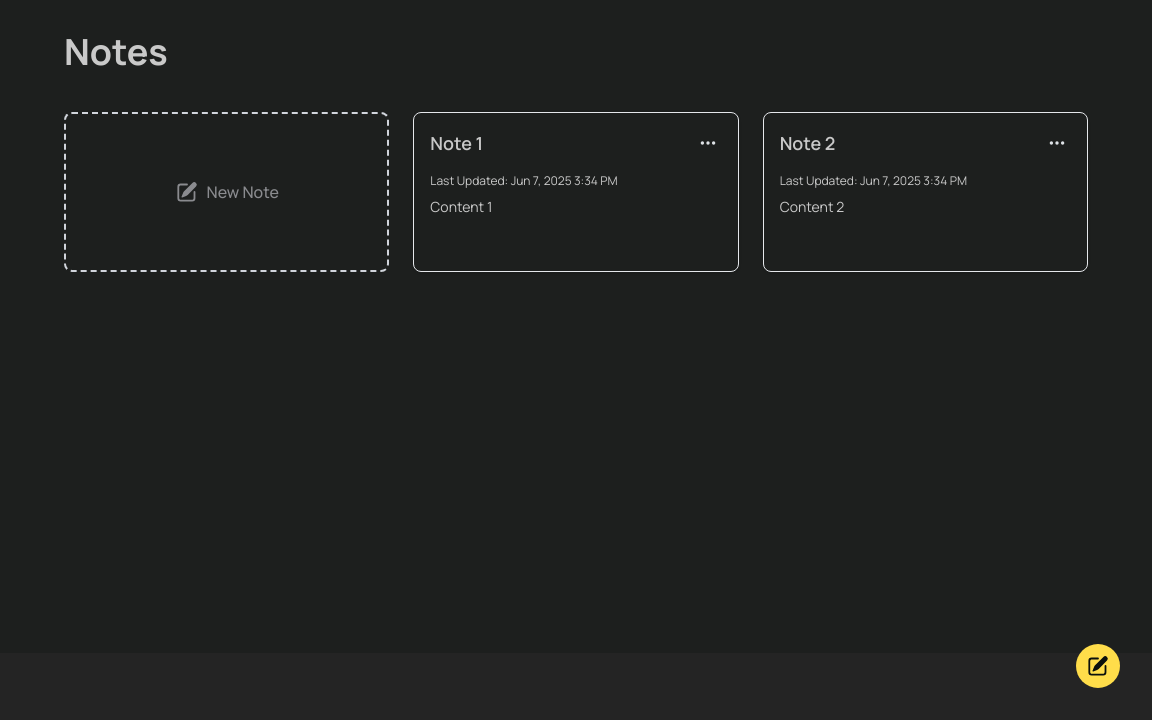
Scenario: Notes page with note › opens the menu on click and show all menu items
Click the button named "Options for note titled Note 1" at (708, 143), box [694,129,722,157]
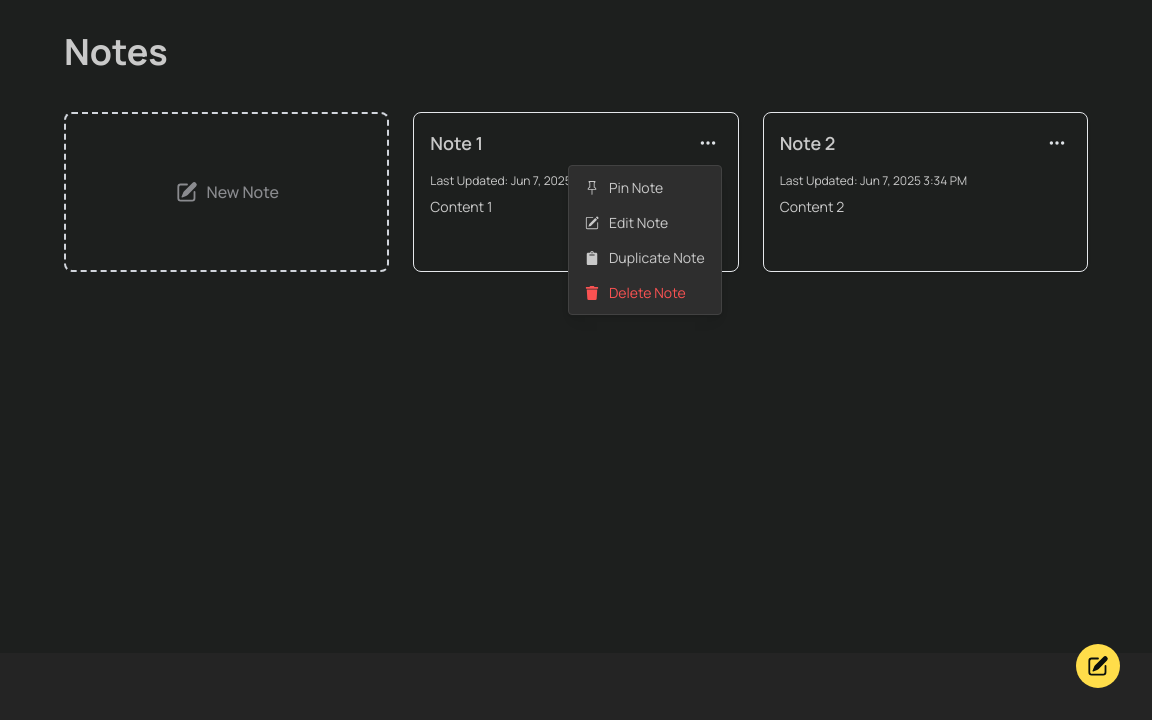
Expected: the text "Pin Note" is shown, [609,178,663,197]
Expected: the text "Edit Note" is shown, [609,213,668,232]
Expected: the text "Duplicate Note" is shown, [609,247,705,268]
